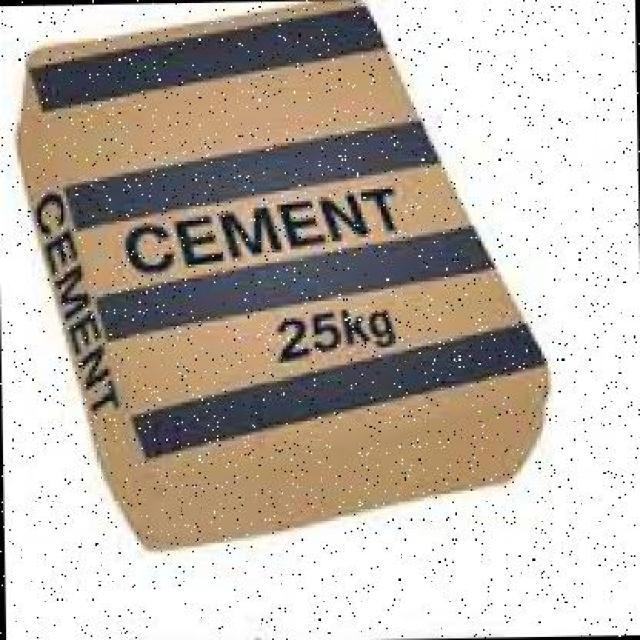gunny_bag: (32, 0, 547, 468)
